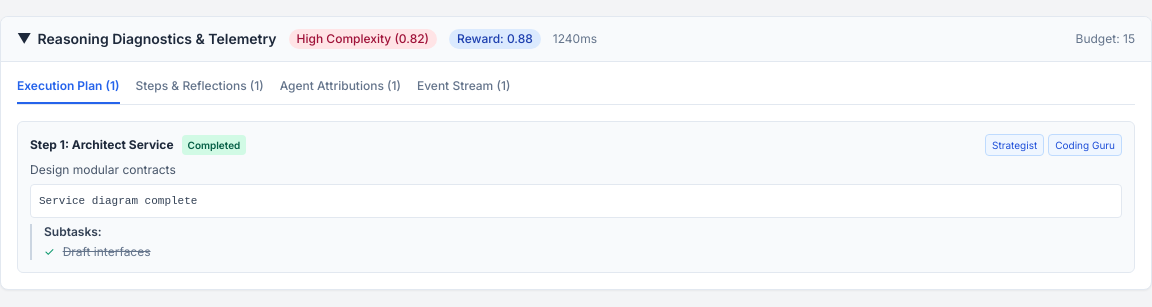
Test: ReasoningDiagnosticsPanel › allows switching to Agent Attributions tab and Event Stream tab
Click the button "Agent Attributions (1)" at (340, 91), box [280,78,401,104]
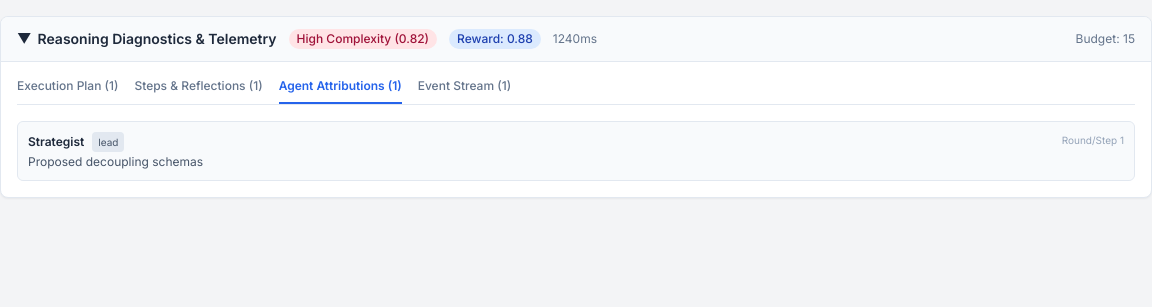
Result: the text "Strategist" is shown at [28,134,84,150]
Result: the text "Proposed decoupling schemas" is shown at [28,154,203,170]
Click the button "Event Stream (1)" at (464, 91), box [418,78,511,104]
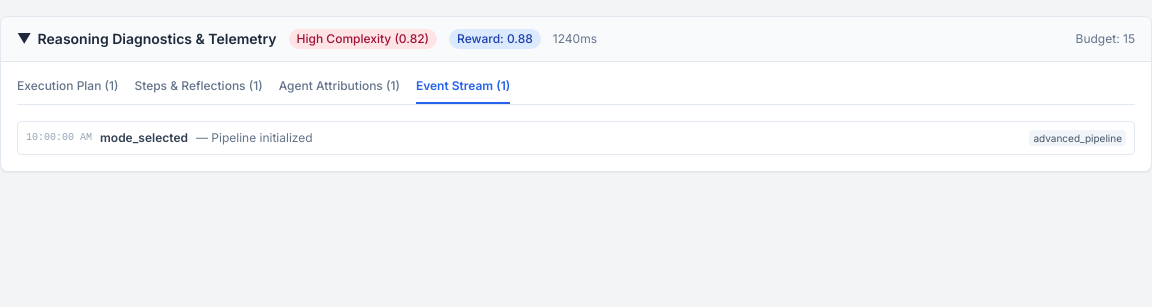
Result: the text "mode_selected" is shown at [100,130,188,146]
Result: the text "— Pipeline initialized" is shown at [196,130,313,146]
